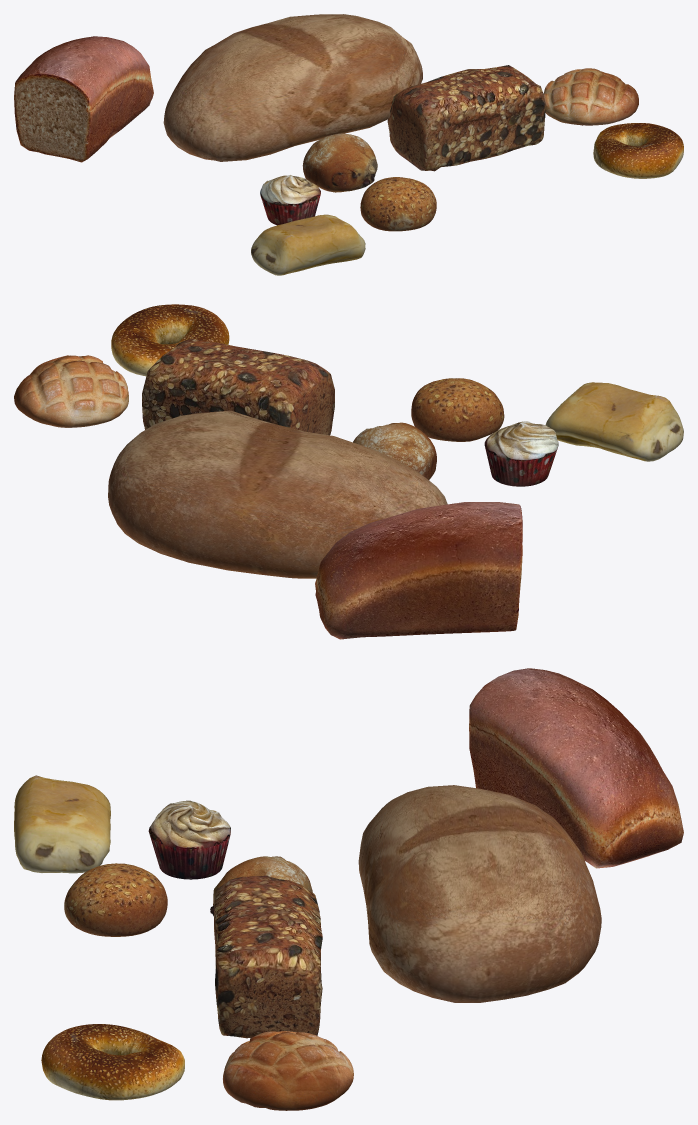
The model's file is breads.glb.
The picture shows the model from 3 angles, top to bottom: view 1: azimuth 30°, elevation 25°; view 2: azimuth 150°, elevation 25°; view 3: azimuth 270°, elevation 25°; orthographic projection. The views are drawn at different scales.
Visible parts, largest first — view 1: Loaf of Bread, Loaf of Bread.001, Nut Bread, Chocolate Brioche, Bread Roll 2, Sweet Bread Roll, Raisin Bread, Bread Roll, Spiced Cupcake; view 2: Loaf of Bread, Loaf of Bread.001, Nut Bread, Chocolate Brioche, Bread Roll 2, Sweet Bread Roll, Bread Roll, Spiced Cupcake, Raisin Bread; view 3: Loaf of Bread, Loaf of Bread.001, Nut Bread, Sweet Bread Roll, Bread Roll 2, Chocolate Brioche, Bread Roll, Spiced Cupcake, Raisin Bread.
Part boxes in pixels (box(x1,y1,x2,y2)): Loaf of Bread: box(163, 14, 422, 161); Loaf of Bread.001: box(14, 36, 153, 162); Nut Bread: box(387, 65, 545, 171); Chocolate Brioche: box(251, 214, 365, 275); Bread Roll 2: box(543, 68, 638, 125); Sweet Bread Roll: box(593, 123, 683, 178); Raisin Bread: box(302, 133, 377, 192); Bread Roll: box(360, 177, 436, 231); Spiced Cupcake: box(260, 175, 320, 225); Loaf of Bread: box(108, 410, 447, 578); Loaf of Bread.001: box(315, 502, 522, 639); Nut Bread: box(142, 339, 334, 435); Chocolate Brioche: box(545, 382, 683, 461); Bread Roll 2: box(14, 355, 128, 427); Sweet Bread Roll: box(111, 304, 229, 376); Bread Roll: box(411, 378, 504, 441); Spiced Cupcake: box(484, 421, 558, 486); Raisin Bread: box(353, 422, 436, 479); Loaf of Bread: box(358, 785, 601, 1002); Loaf of Bread.001: box(469, 668, 683, 868); Nut Bread: box(214, 875, 322, 1038); Sweet Bread Roll: box(41, 1024, 184, 1100); Bread Roll 2: box(223, 1031, 353, 1110); Chocolate Brioche: box(14, 775, 110, 873); Bread Roll: box(64, 863, 167, 936); Spiced Cupcake: box(148, 800, 230, 879); Raisin Bread: box(210, 856, 312, 916).
Size of the model in its own units: 61.61 by 10.24 by 51.11.
9 materials, 9 textured.
